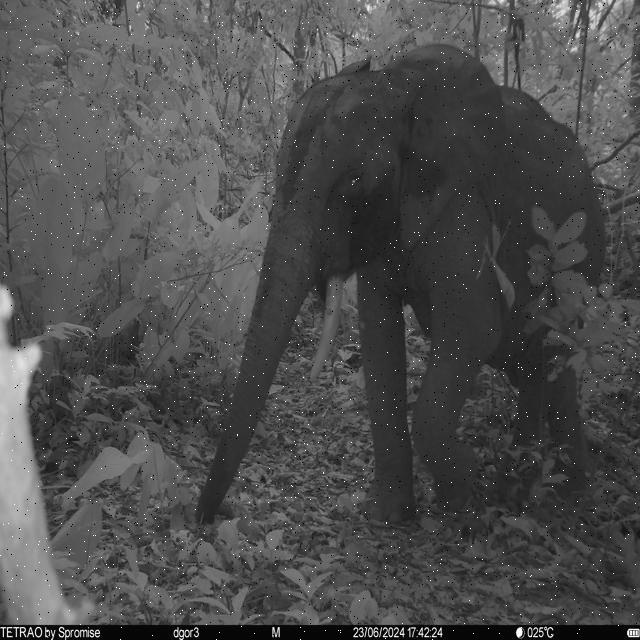ear: (385, 44, 508, 255)
elephant: (193, 41, 608, 528)
tusk: (308, 276, 342, 386)
